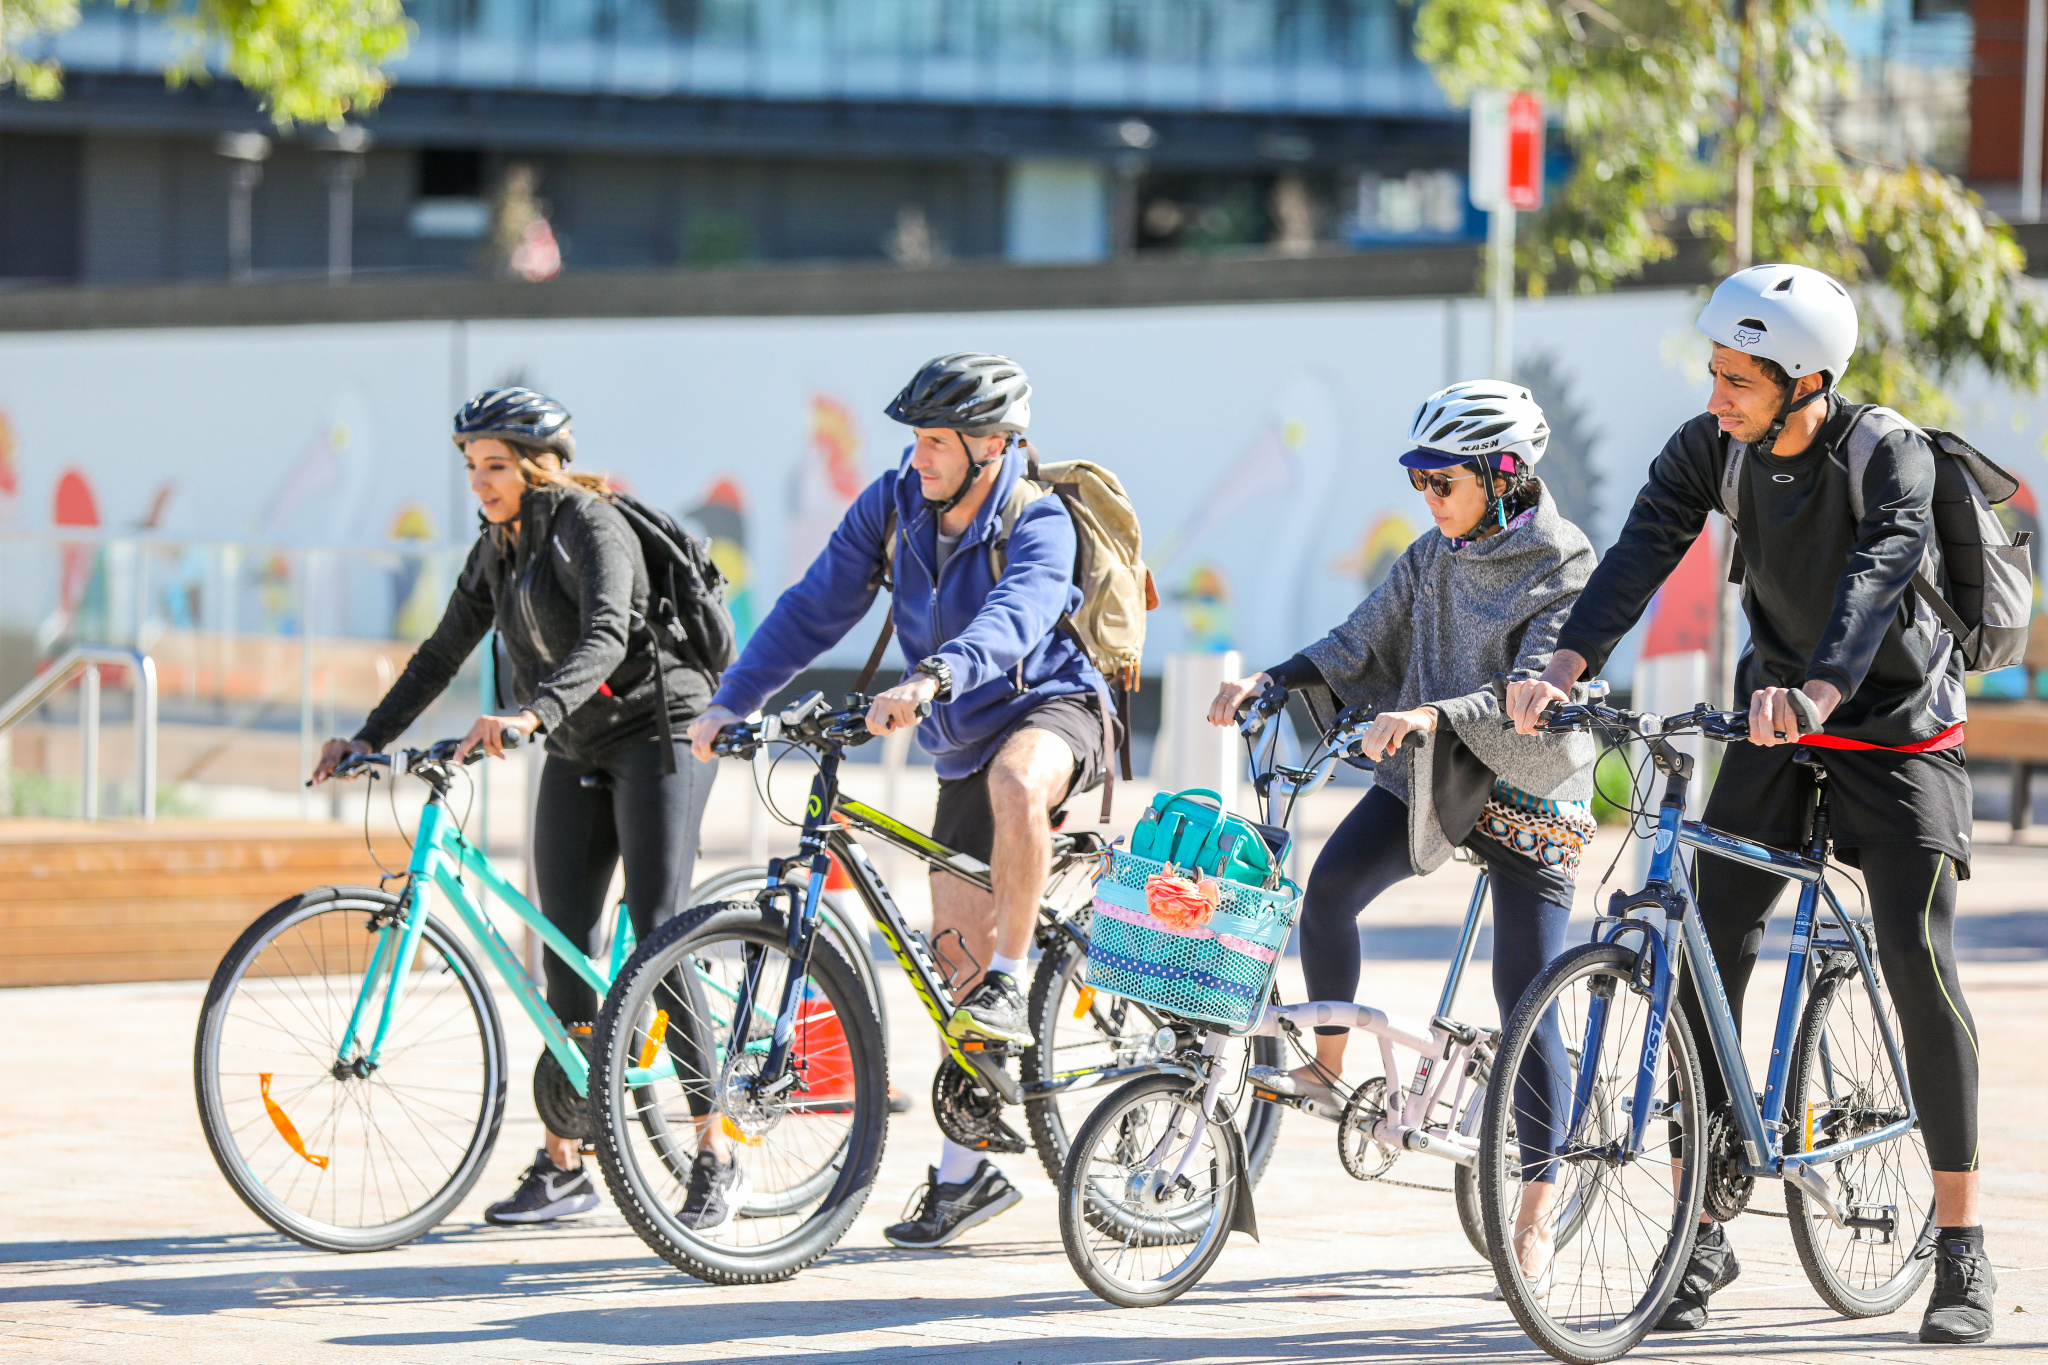commuter: (589, 350, 1345, 1271), (1480, 273, 2008, 1365), (198, 388, 863, 1239), (1061, 385, 1619, 1307)
